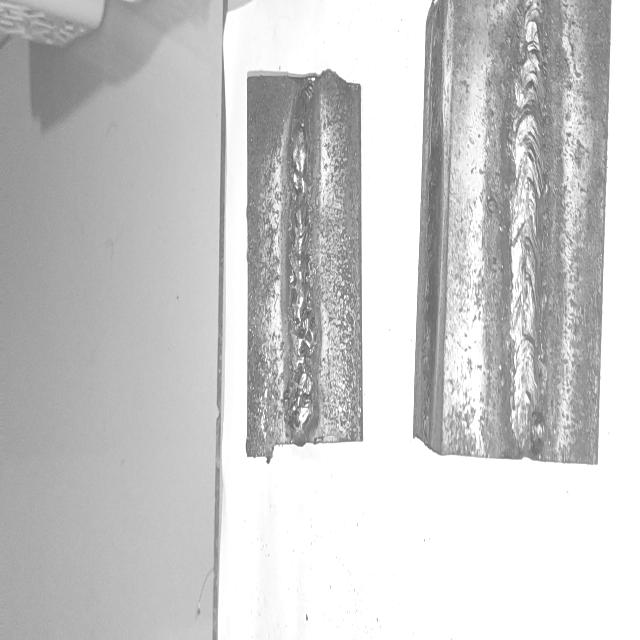Bad Weld: (292, 86, 312, 433)
Defect: (292, 102, 312, 434)
Good Weld: (514, 0, 547, 444)
